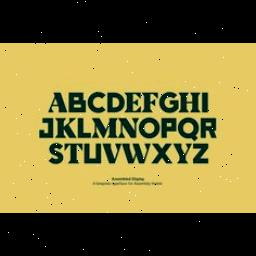o: (139, 117, 159, 139)
q: (178, 117, 200, 143)
u: (82, 143, 102, 167)
